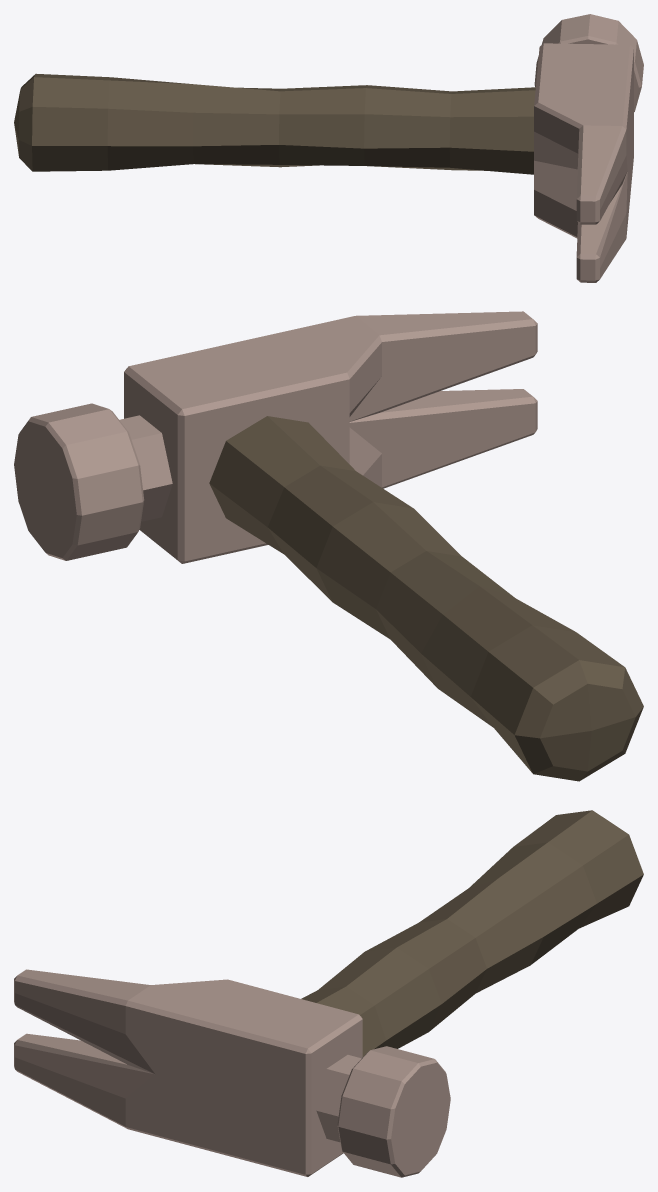
The model's file is martillo_lowpoly.fbx.
The picture shows the model from 3 angles, top to bottom: view 1: azimuth 30°, elevation 25°; view 2: azimuth 150°, elevation 25°; view 3: azimuth 270°, elevation 25°; orthographic projection. The views are drawn at different scales.
Parts seen in each view (by area): view 1: Cube.010; view 2: Cube.010; view 3: Cube.010.
Part boxes in pixels (box(x1,y1,x2,y2)): Cube.010: box(14, 14, 643, 282); Cube.010: box(14, 311, 643, 781); Cube.010: box(14, 810, 643, 1177).
Bounding box in the file's own units: 170 × 34.7 × 154.
